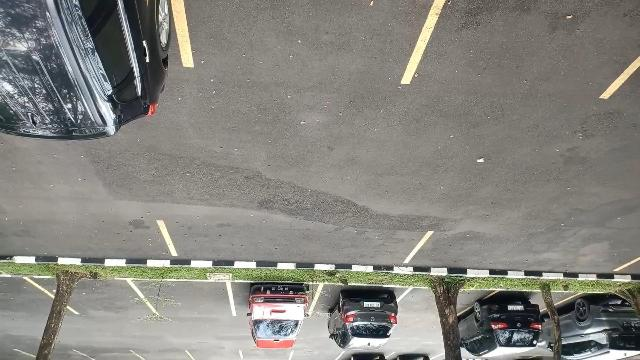empty: (399, 1, 640, 93), (173, 0, 440, 79), (166, 216, 418, 264), (414, 226, 640, 274), (50, 279, 138, 319), (140, 281, 230, 319)
occupied: (558, 290, 640, 352), (460, 290, 546, 348), (316, 282, 404, 330), (230, 283, 316, 325)
